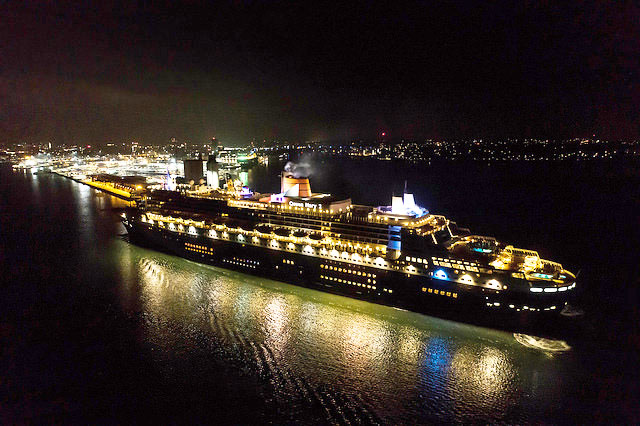cruise_ship: (119, 161, 578, 347)
